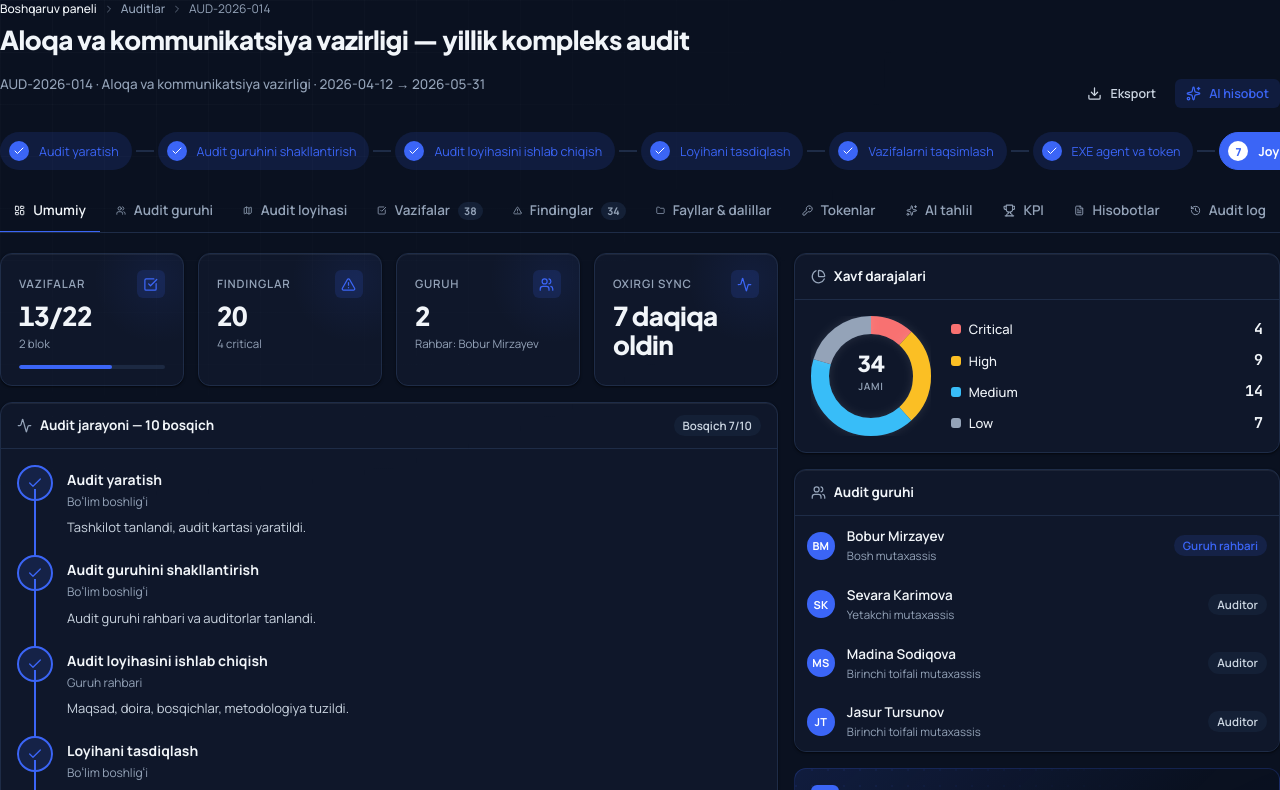
AuditDetailScreen › renders tokens, KPI and reports tabs
Click the tab "Tokenlar" at [838, 212], box [788,190,890,233]
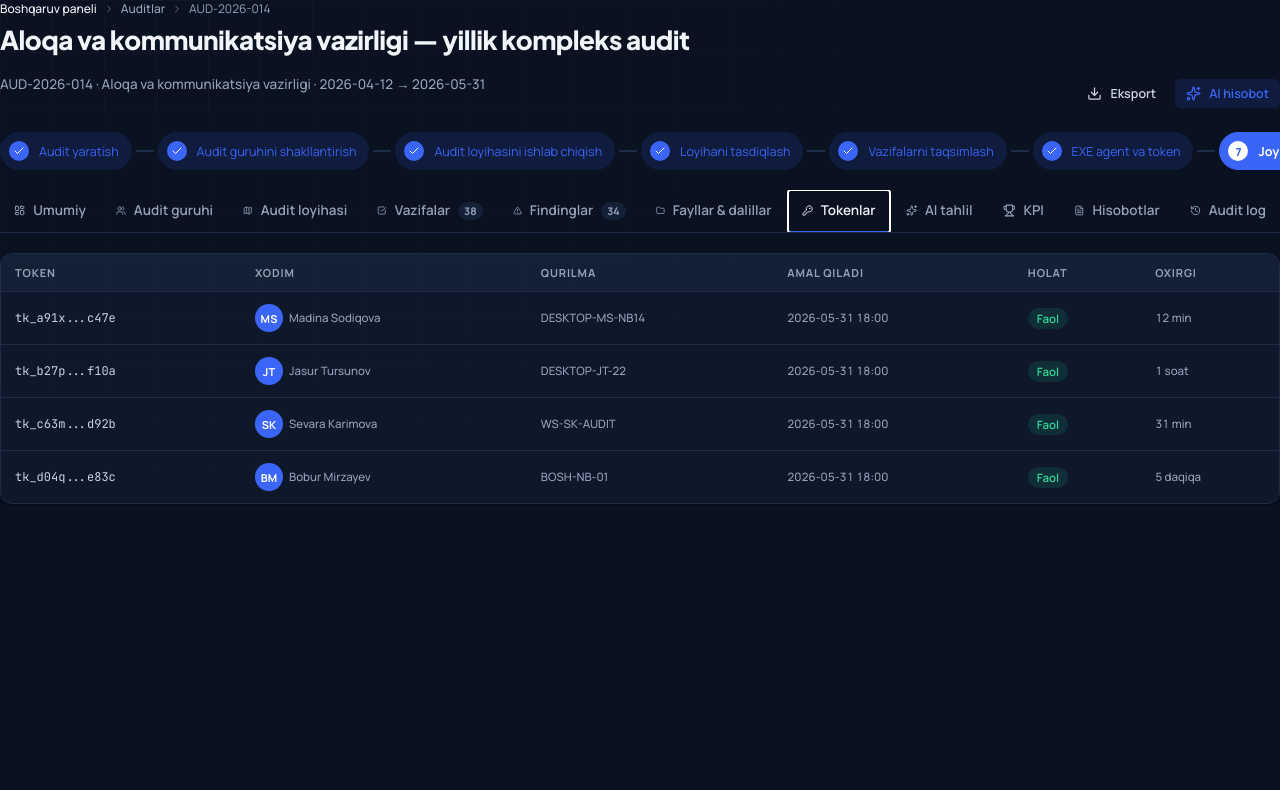
Result: the text "DESKTOP-MS-NB14" is shown at [527,292,773,345]
Click the tab "KPI" at [1023, 212], box [989,190,1058,233]
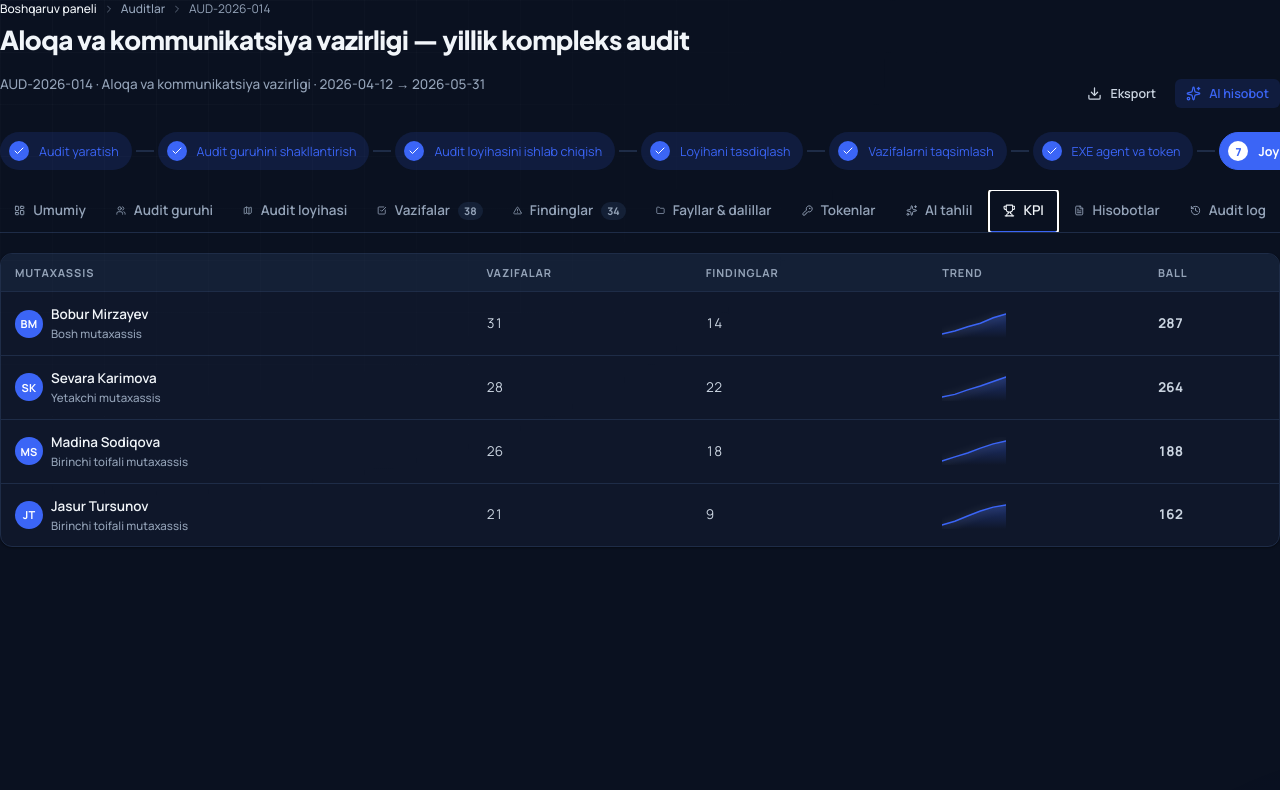
Result: the text "287" is shown at [1144,292,1279,356]
Click the tab "Hisobotlar" at [1117, 212], box [1060,190,1174,233]
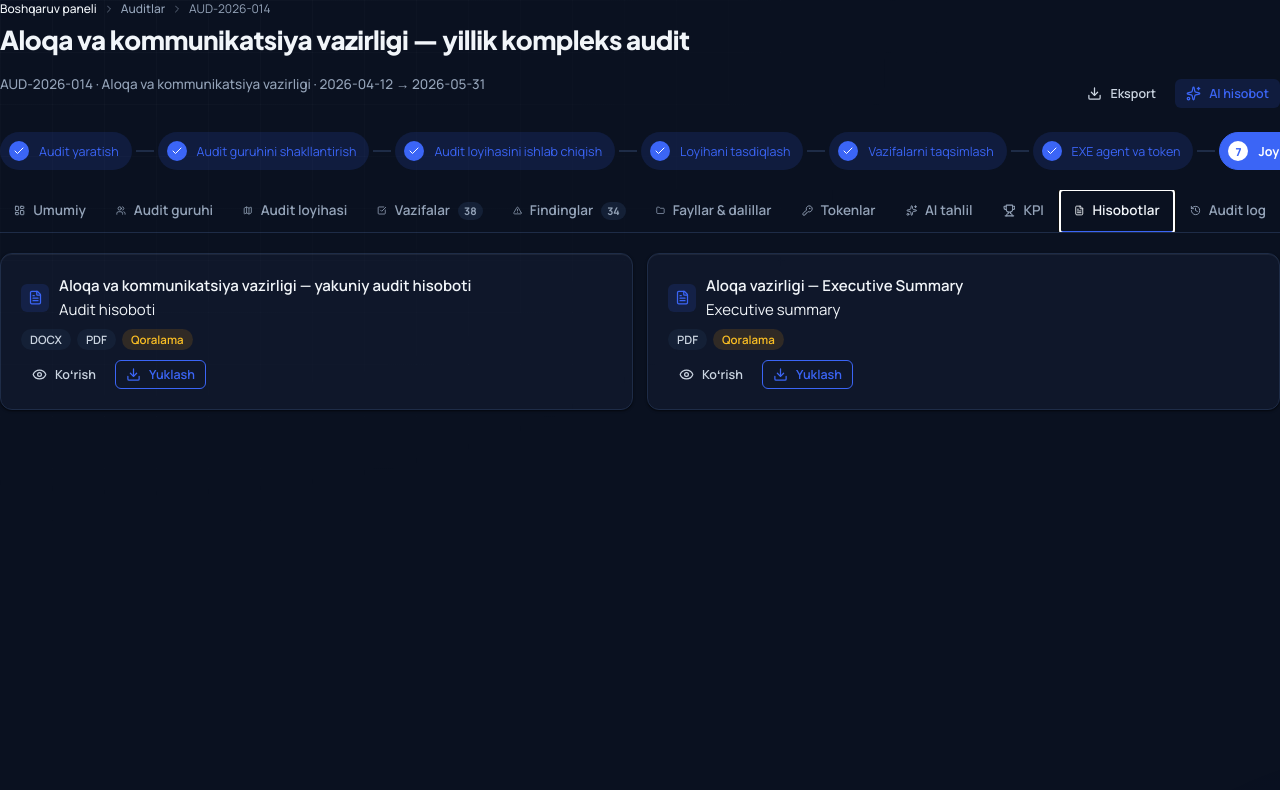
Result: the text "Aloqa vazirligi — Executive Summary" is shown at [706,274,963,298]
